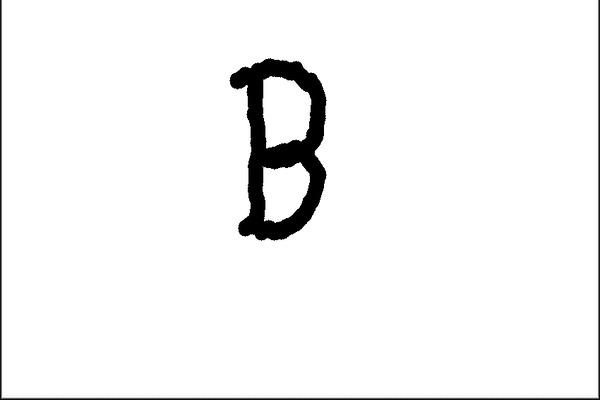B: (221, 52, 334, 247)
